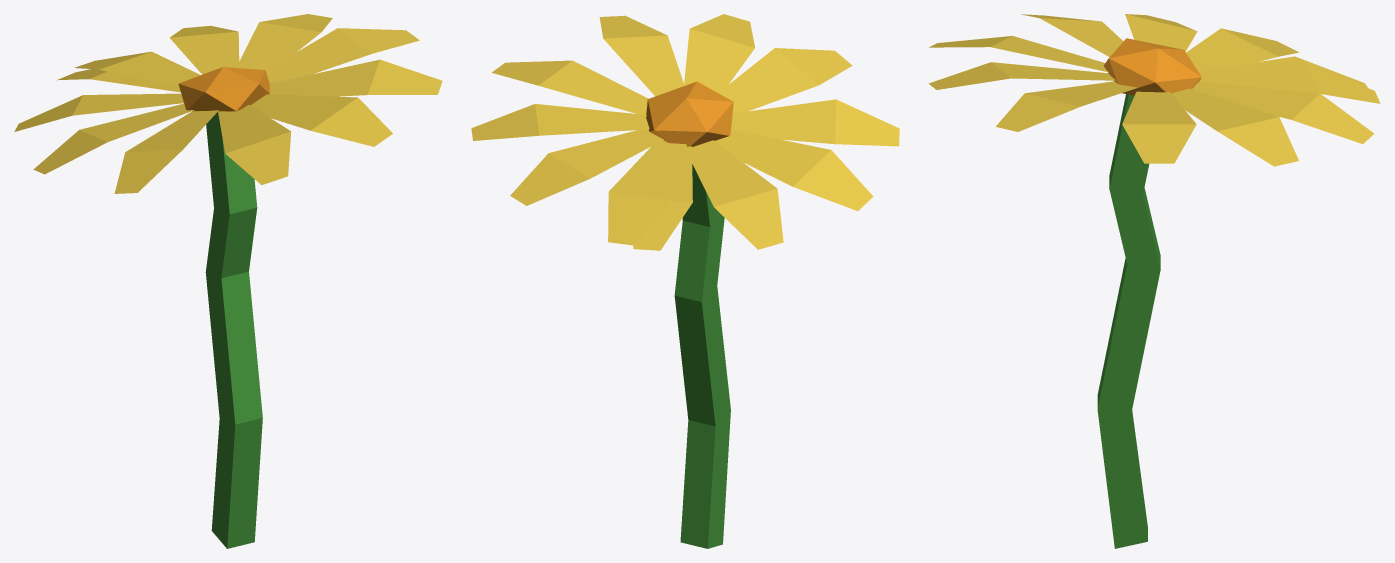
The model's file is dandelion.fbx.
3 views of the same model, side by side, from view 1: azimuth 30°, elevation 25°; view 2: azimuth 150°, elevation 25°; view 3: azimuth 270°, elevation 25° (orthographic). The views are drawn at different scales.
Parts seen in each view (by area): view 1: Plane; view 2: Plane; view 3: Plane.
Boxes of the visible parts, x1,y1,x2,y2 form: Plane: [14, 14, 442, 548]; Plane: [471, 14, 899, 548]; Plane: [928, 14, 1380, 548].
Bounding box in the file's own units: 294 × 351 × 288.
